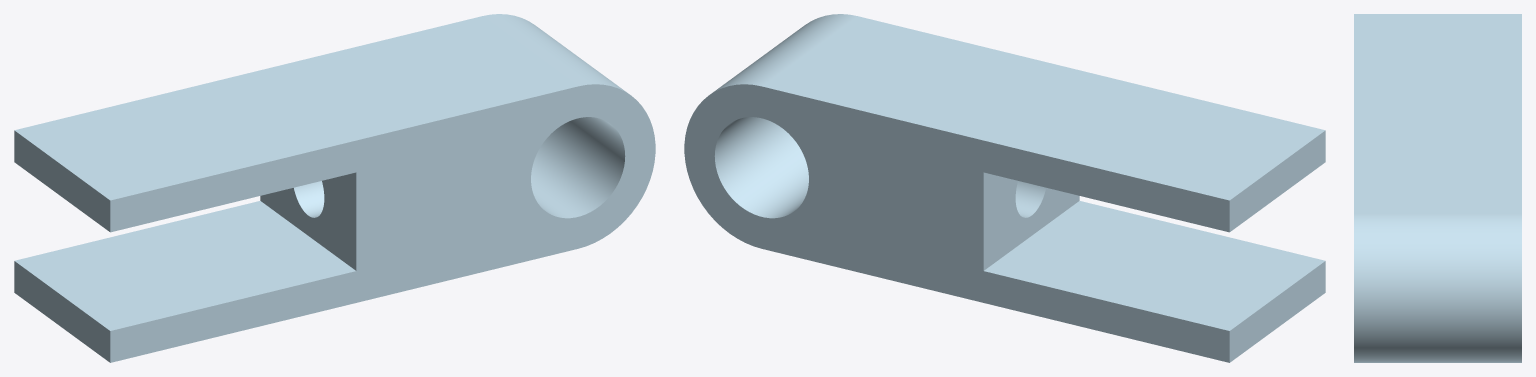
The model's file is Part Studio 1(5).gltf.
3 views of the same model, side by side, from view 1: azimuth 30°, elevation 25°; view 2: azimuth 150°, elevation 25°; view 3: azimuth 270°, elevation 25° (orthographic). The views are drawn at different scales.
Visible parts, largest first — view 1: Part 1; view 2: Part 1; view 3: Part 1.
Part boxes in pixels (x1,y1,x2,y2): Part 1: (14, 14, 655, 362); Part 1: (684, 14, 1325, 362); Part 1: (1354, 14, 1521, 362).
Bounding box in the file's own units: 0.0984 × 0.028 × 0.03.
